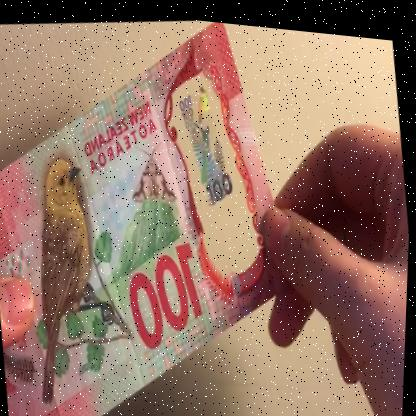100B: (173, 72, 243, 224)
